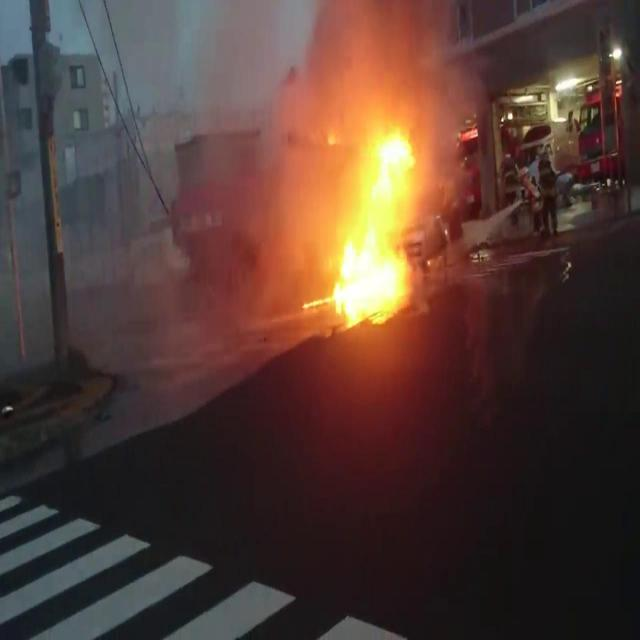fire: (320, 113, 415, 330)
